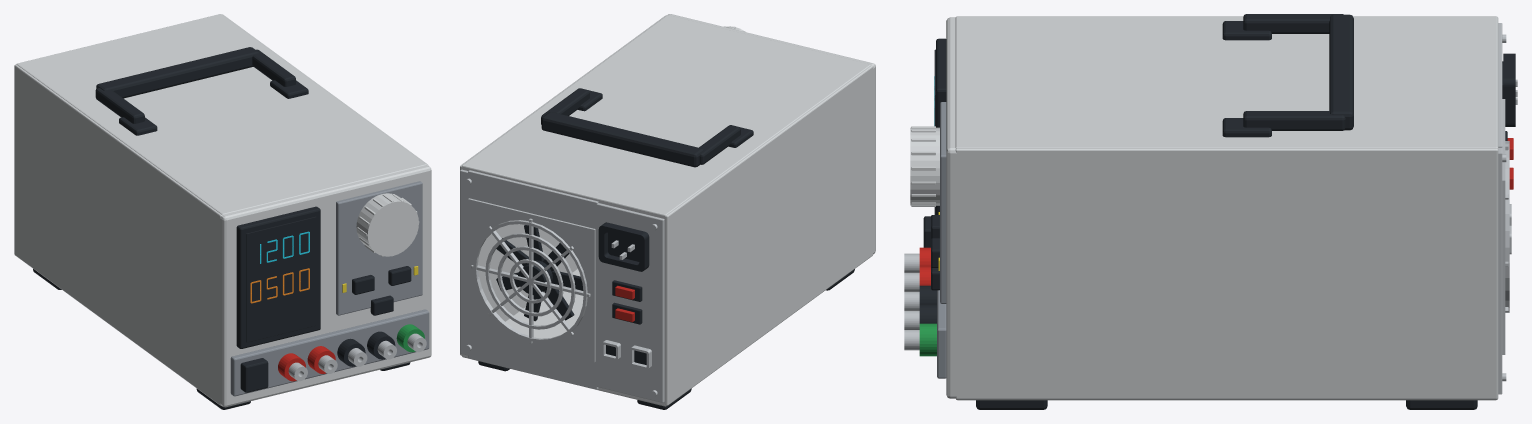
Rendered from full.glb.
3 renders of one model, left to right at view 1: azimuth 30°, elevation 25°; view 2: azimuth 150°, elevation 25°; view 3: azimuth 270°, elevation 25°, orthographic. The views are drawn at different scales.
Parts seen in each view (by area): view 1: Case side -0.0753, Case roof, Front fascia, Recessed screen, Control recess, Lower terminal strip, Folded handle grip, Screen dark bezel, Main adjustment knob, Power rocker, Folded handle arm -0.056, Folded handle arm 0.056 (+10 smaller); view 2: Case side -0.0753, Case roof, Rear right panel, Fan outer support, Rear horizontal 0.133, Rear horizontal 0.02, Folded handle grip, Case side 0.0753, Case floor, Rear left edge, Fan grille ring 0.041, Front fascia (+11 smaller); view 3: Case side 0.0753, Case roof, Front fascia, Folded handle grip, Main adjustment knob, Folded handle arm 0.056, Folded handle arm -0.056, Control recess, Rear left edge, Case floor, Fan outer support, IEC inlet rim (+8 smaller).
Part boxes in pixels (left/top/right/bottom): Case side -0.0753: left=14, top=64, right=222, bottom=405; Case roof: left=16, top=14, right=426, bottom=214; Front fascia: left=217, top=165, right=431, bottom=407; Recessed screen: left=246, top=216, right=316, bottom=342; Control recess: left=336, top=181, right=422, bottom=315; Lower terminal strip: left=230, top=309, right=429, bottom=396; Folded handle grip: left=96, top=47, right=258, bottom=98; Screen dark bezel: left=236, top=206, right=320, bottom=348; Main adjustment knob: left=356, top=193, right=418, bottom=256; Power rocker: left=240, top=358, right=268, bottom=392; Folded handle arm -0.056: left=95, top=88, right=144, bottom=123; Folded handle arm 0.056: left=252, top=49, right=295, bottom=86; Case side -0.0753: left=663, top=65, right=873, bottom=405; Case roof: left=462, top=15, right=871, bottom=218; Rear right panel: left=593, top=203, right=664, bottom=402; Fan outer support: left=468, top=198, right=595, bottom=362; Rear horizontal 0.133: left=468, top=170, right=598, bottom=228; Rear horizontal 0.02: left=468, top=332, right=598, bottom=389; Folded handle grip: left=541, top=112, right=703, bottom=167; Case side 0.0753: left=460, top=15, right=666, bottom=355; Case floor: left=462, top=269, right=666, bottom=406; Rear left edge: left=460, top=169, right=472, bottom=355; Fan grille ring 0.041: left=473, top=220, right=587, bottom=342; Front fascia: left=667, top=14, right=875, bottom=254; Case side 0.0753: left=955, top=148, right=1498, bottom=399; Case roof: left=955, top=16, right=1498, bottom=148; Front fascia: left=946, top=17, right=962, bottom=398; Folded handle grip: left=1329, top=14, right=1353, bottom=130; Main adjustment knob: left=910, top=127, right=939, bottom=205; Folded handle arm 0.056: left=1243, top=111, right=1345, bottom=130; Folded handle arm -0.056: left=1243, top=14, right=1343, bottom=33; Control recess: left=940, top=102, right=946, bottom=303; Rear left edge: left=1498, top=148, right=1502, bottom=394; Case floor: left=956, top=399, right=1497, bottom=400; Fan outer support: left=1502, top=99, right=1505, bottom=354; IEC inlet rim: left=1503, top=53, right=1515, bottom=126.
Size of the model in its own units: 0.1546 by 0.155 by 0.2995.
